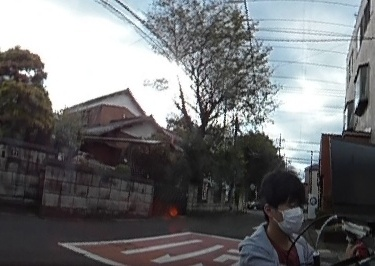person: (241, 169, 329, 266)
